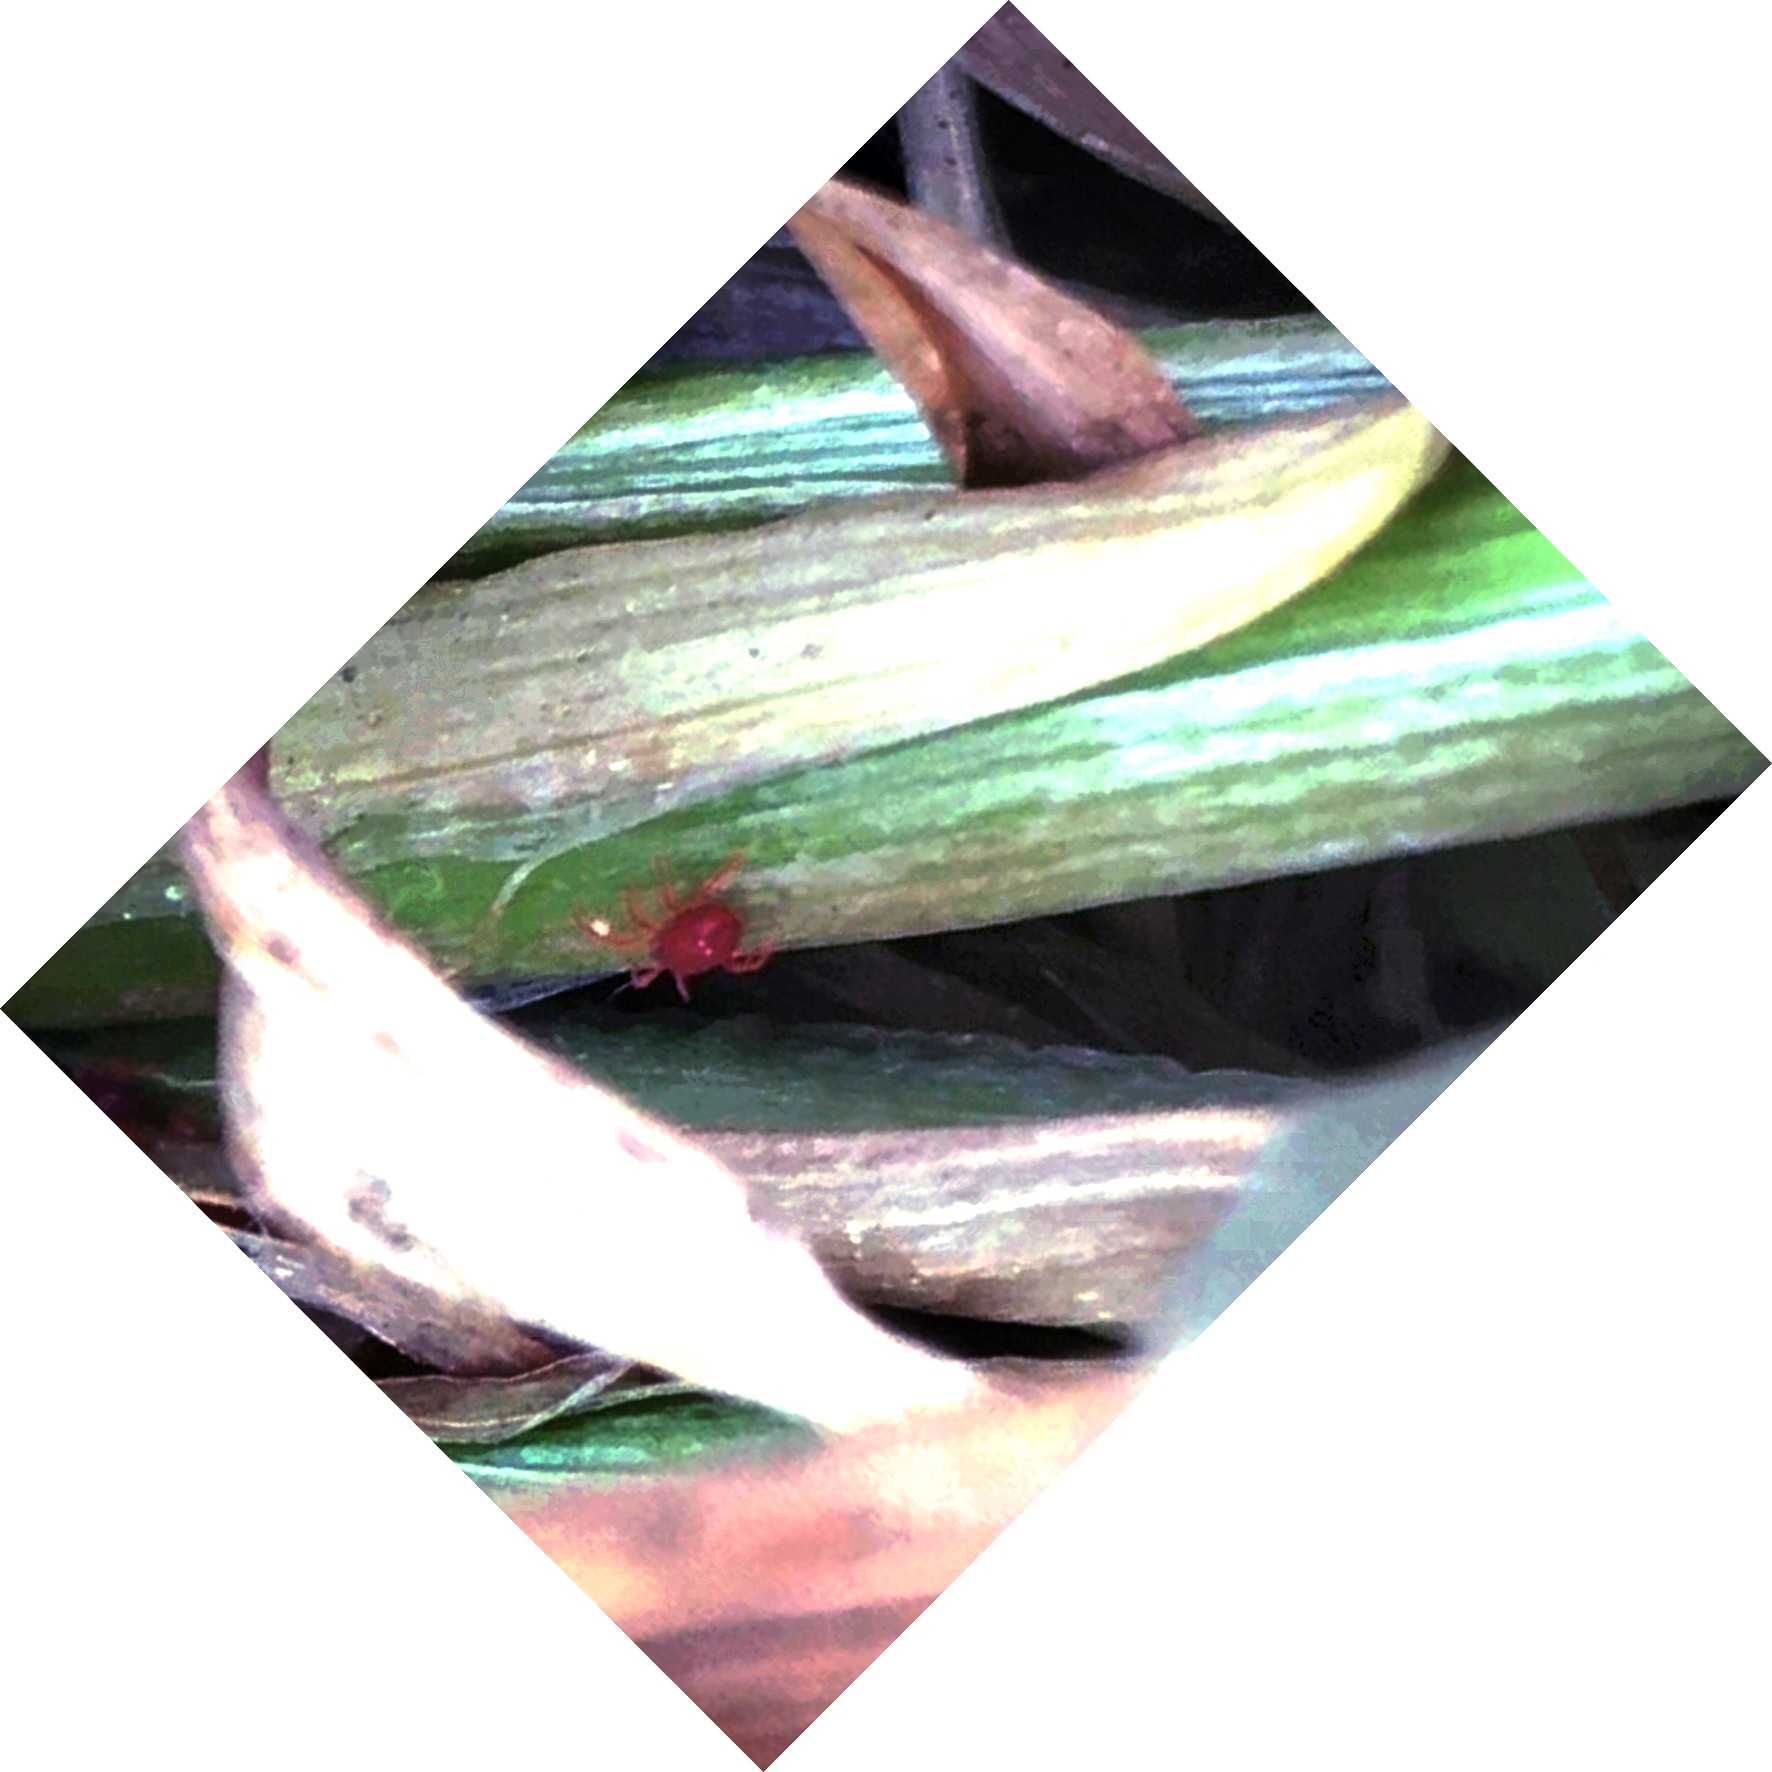Wheat Red Spider: (561, 842, 802, 1026)
